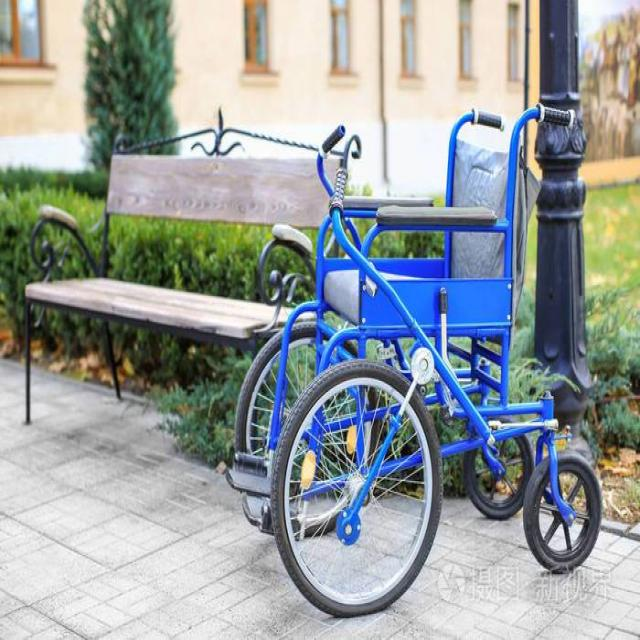wheelchairs: (223, 94, 607, 623)
